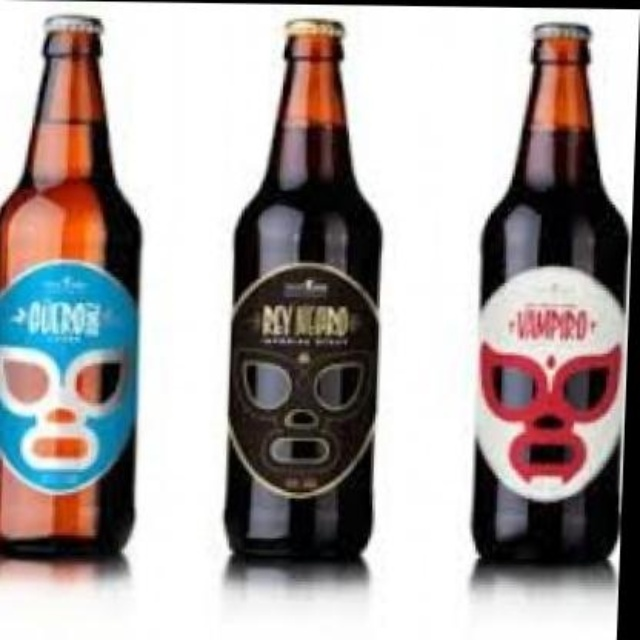trash: (225, 20, 380, 555), (472, 23, 626, 558), (0, 15, 138, 554)
